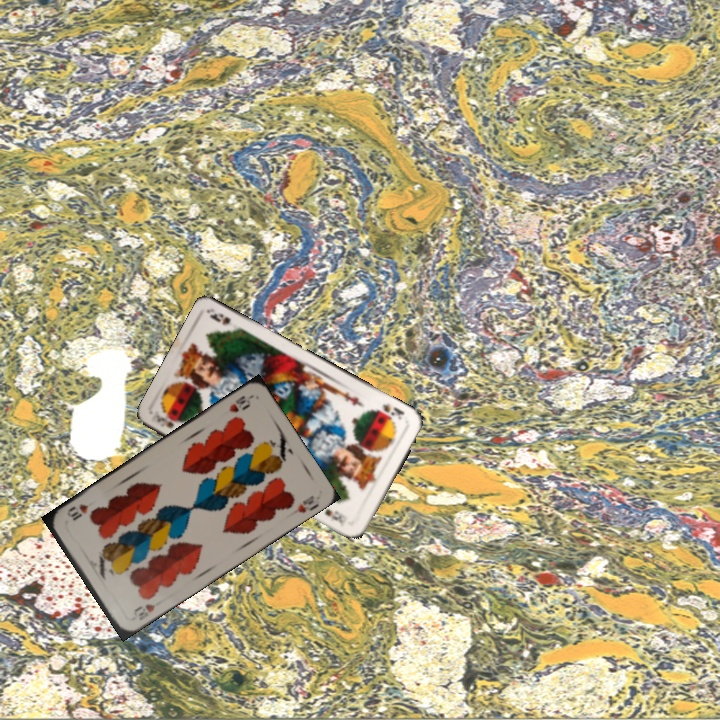H10: (126, 599, 158, 624), (225, 392, 254, 415)
SK: (373, 400, 407, 423), (152, 411, 177, 431)
